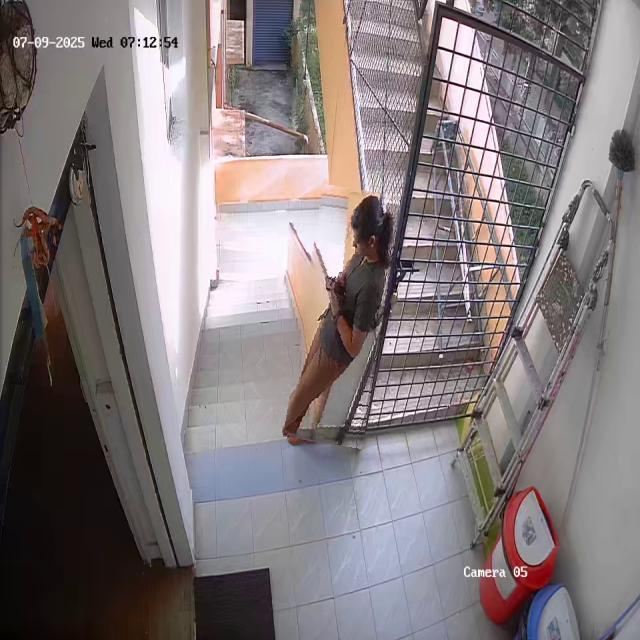person: (293, 186, 393, 447)
